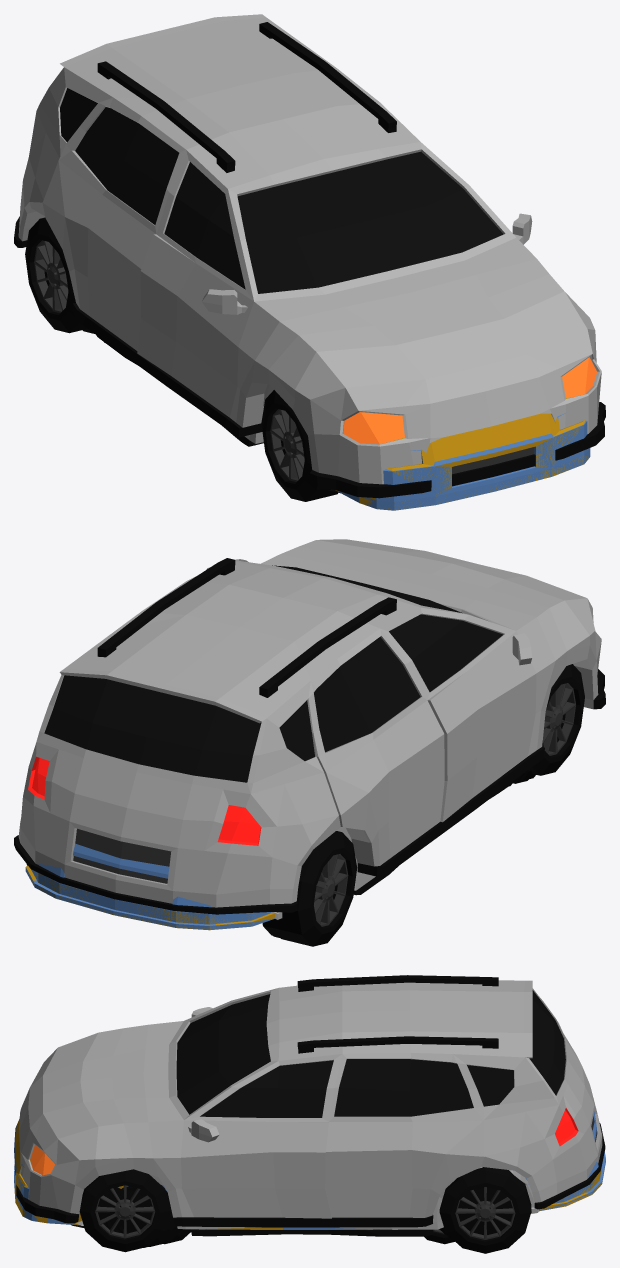
The model's file is cars.glb.
3 renders of one model, top to bottom at view 1: azimuth 30°, elevation 25°; view 2: azimuth 150°, elevation 25°; view 3: azimuth 270°, elevation 25°, orthographic. The views are drawn at different scales.
Parts seen in each view (by area): view 1: Body (×3), WheelFR, WheelsBack; view 2: Body (×3), WheelsBack, WheelFR; view 3: Body (×5), WheelsBack, WheelFL.
Part boxes in pixels (x1,y1,x2,y2): Body (×3): [14, 14, 605, 510]; WheelFR: [261, 390, 338, 501]; WheelsBack: [25, 217, 87, 333]; Body (×3): [14, 539, 605, 930]; WheelsBack: [26, 831, 357, 946]; WheelFR: [530, 664, 584, 775]; Body (×5): [14, 975, 605, 1236]; WheelsBack: [439, 1167, 531, 1253]; WheelFL: [79, 1169, 170, 1252].
Size of the model in its own units: 2.11 by 1.53 by 4.22.
